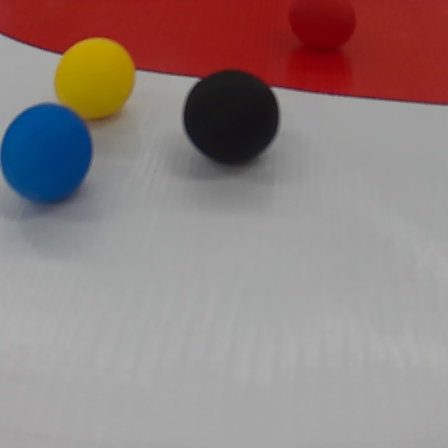black: (183, 67, 278, 173)
blue: (2, 100, 96, 209)
red: (290, 0, 359, 55)
red_base: (0, 0, 448, 113)
yellow: (54, 36, 137, 120)
